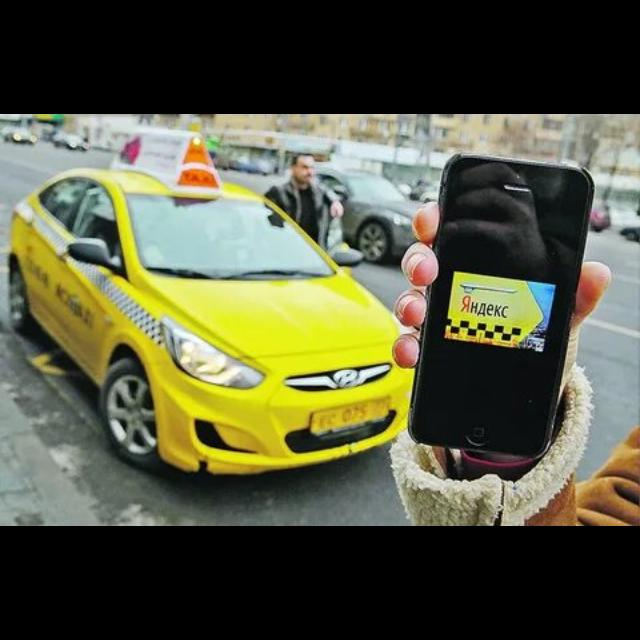taxi: (8, 126, 417, 478)
